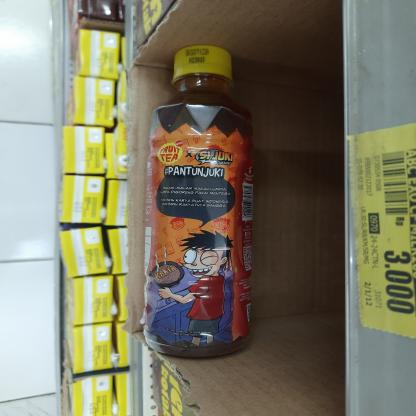bottle: (134, 42, 260, 350)
